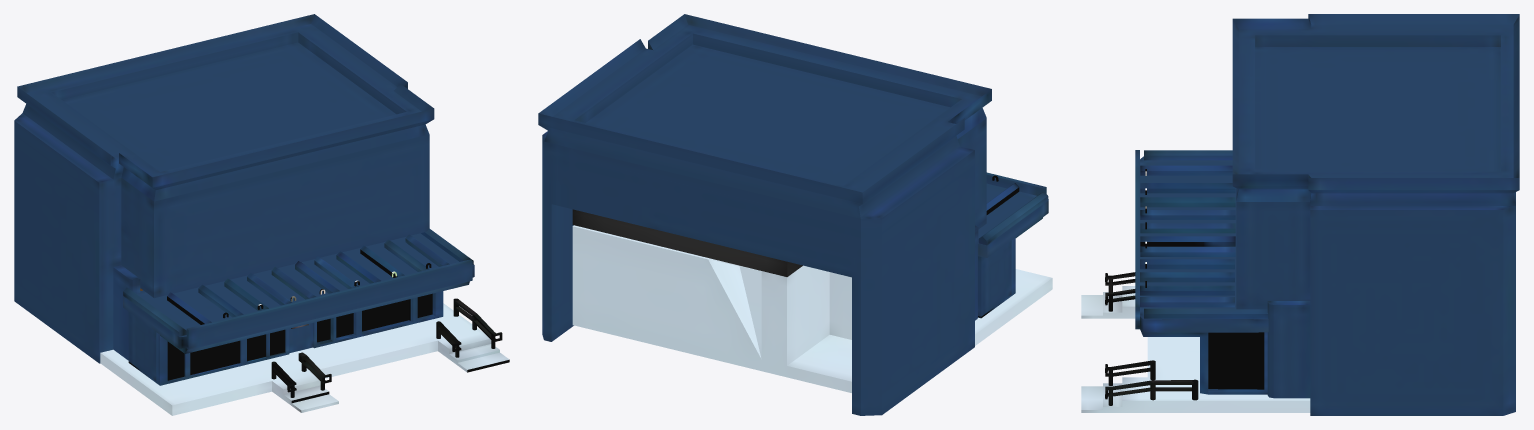
The model's file is aquarium-store-2.glb.
3 renders of one model, left to right at view 1: azimuth 30°, elevation 25°; view 2: azimuth 150°, elevation 25°; view 3: azimuth 270°, elevation 25°, orthographic. The views are drawn at different scales.
Visible parts, largest first — view 1: Plane.024_Baked, Plane.017_Baked, Cube_Baked, Cube.001_Baked, Plane.042_Baked, Circle.010_Baked, Plane_Baked, Circle.001_Baked; view 2: Plane.024_Baked, Cube_Baked, Plane.017_Baked, Plane.003_Baked; view 3: Plane.024_Baked, Plane.017_Baked, Cube_Baked, Plane.042_Baked, Circle.010_Baked, Circle.011_Baked.
Boxes of the visible parts, bbox=[...] form: Plane.024_Baked: bbox=[14, 14, 434, 363]; Plane.017_Baked: bbox=[123, 229, 474, 385]; Cube_Baked: bbox=[100, 303, 509, 415]; Cube.001_Baked: bbox=[167, 329, 285, 380]; Plane.042_Baked: bbox=[317, 293, 432, 342]; Circle.010_Baked: bbox=[453, 298, 502, 348]; Plane_Baked: bbox=[289, 323, 312, 353]; Circle.001_Baked: bbox=[298, 352, 331, 390]; Plane.024_Baked: bbox=[538, 14, 991, 415]; Cube_Baked: bbox=[572, 225, 1052, 392]; Plane.017_Baked: bbox=[978, 172, 1048, 318]; Plane.003_Baked: bbox=[572, 209, 802, 276]; Plane.024_Baked: bbox=[1232, 14, 1519, 415]; Plane.017_Baked: bbox=[1135, 150, 1268, 394]; Cube_Baked: bbox=[1081, 286, 1310, 412]; Plane.042_Baked: bbox=[1208, 332, 1264, 389]; Circle.010_Baked: bbox=[1105, 379, 1198, 405]; Circle.011_Baked: bbox=[1105, 360, 1155, 385].
Size of the model in its own units: 101 by 64.61 by 109.
Materials: 52 (52 with a texture image).
